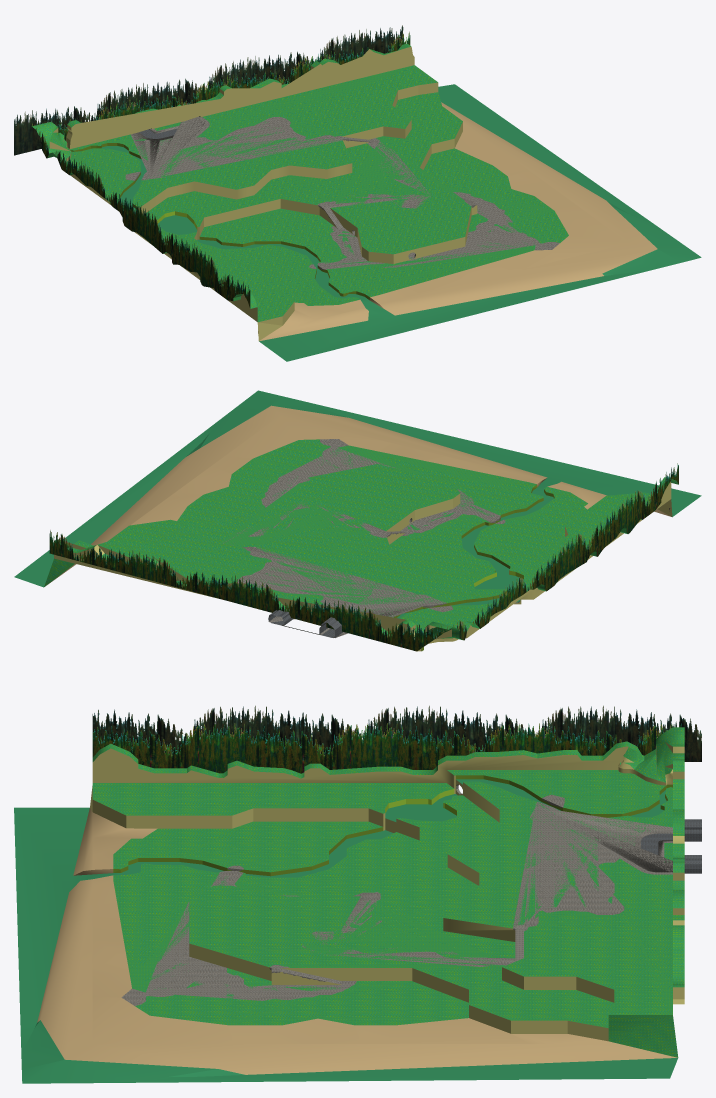
Rendered from AC-World.fbx.
The picture shows the model from 3 angles, top to bottom: view 1: azimuth 30°, elevation 25°; view 2: azimuth 150°, elevation 25°; view 3: azimuth 270°, elevation 25°; orthographic projection. The views are drawn at different scales.
Visible parts, largest first — view 1: Grass1, Sand1, Model, Water1, Background_trees1, Road1; view 2: Grass1, Sand1, Background_trees1, Water1, Road1, Model; view 3: Grass1, Sand1, Model, Water1, Background_trees1, Road1.
Part boxes in pixels (<box>): Grass1: <box>67,65,568,322</box>; Sand1: <box>259,102,657,341</box>; Model: <box>32,43,477,340</box>; Water1: <box>102,84,701,361</box>; Background_trees1: <box>14,25,410,308</box>; Road1: <box>125,116,559,269</box>; Grass1: <box>74,439,652,632</box>; Sand1: <box>48,405,671,584</box>; Background_trees1: <box>49,463,678,651</box>; Water1: <box>14,390,701,618</box>; Road1: <box>223,439,520,637</box>; Model: <box>44,477,678,651</box>; Grass1: <box>92,770,672,1027</box>; Sand1: <box>37,808,677,1074</box>; Model: <box>90,727,701,1057</box>; Water1: <box>14,779,677,1083</box>; Background_trees1: <box>92,705,701,773</box>; Road1: <box>121,784,672,1005</box>.
Size of the model in its own units: 235 by 36.55 by 237.
